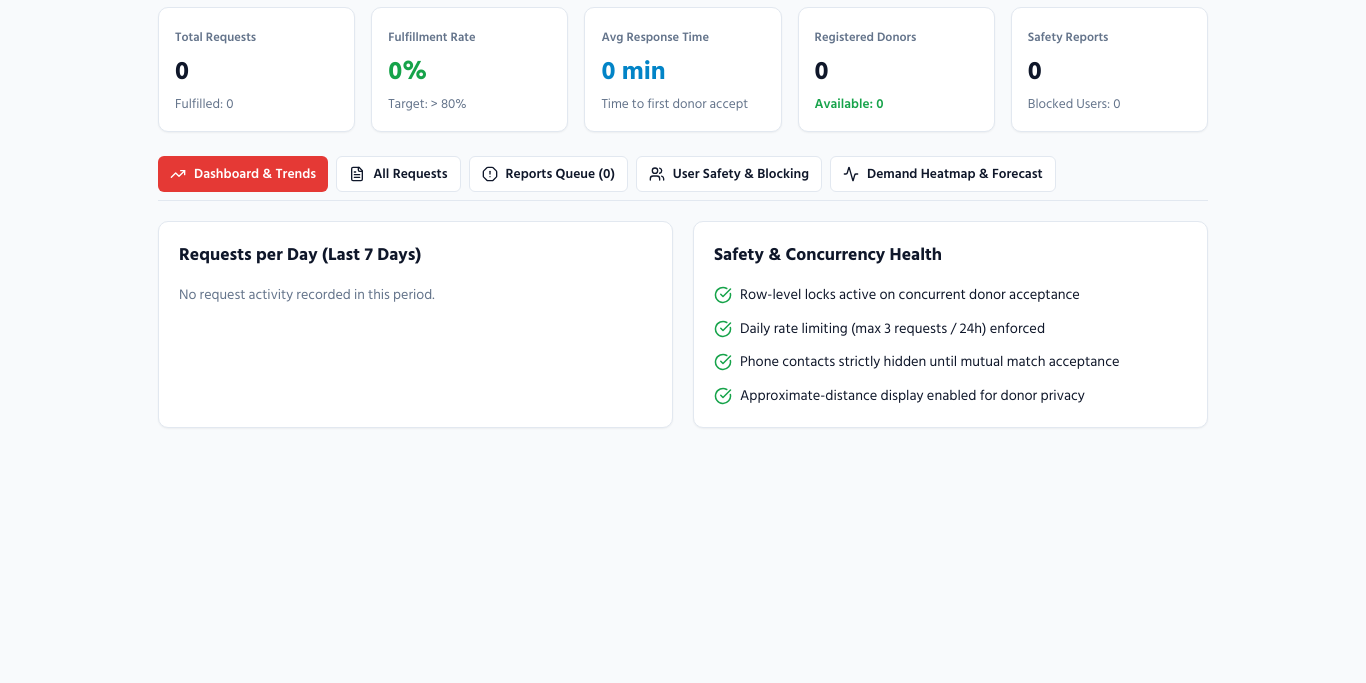
Test: Phase 22 Frontend: Heatmap, Forecast & Nudges › renders Admin Heatmap and Shortage Forecast tab and content
The image size is (1366, 683).
// Click tab
Click the button "Demand Heatmap & Forecast" at (943, 174), box x1=830 y1=156 x2=1056 y2=192
(page scrolled)
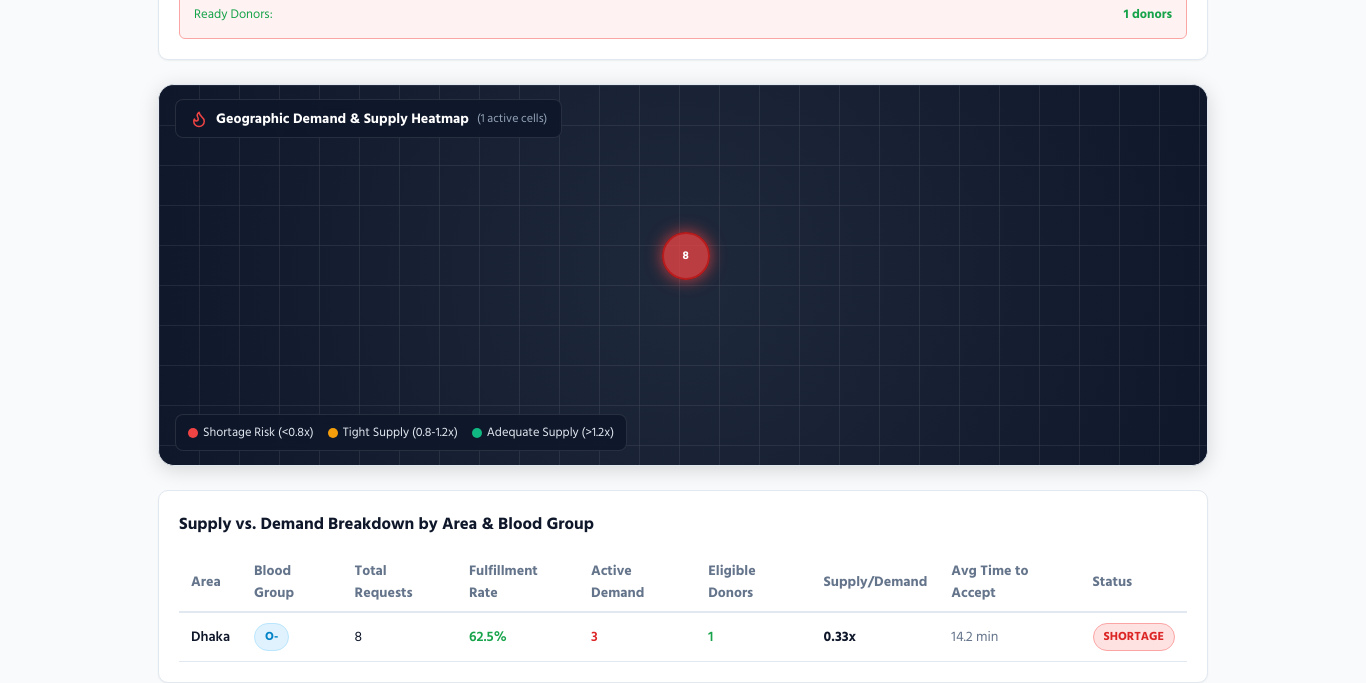
Expected: the heading "Supply vs. Demand Breakdown by Area & Blood Group" is shown, x1=179 y1=510 x2=594 y2=537
Expected: the text "0.33x" is shown, x1=812 y1=612 x2=939 y2=661
